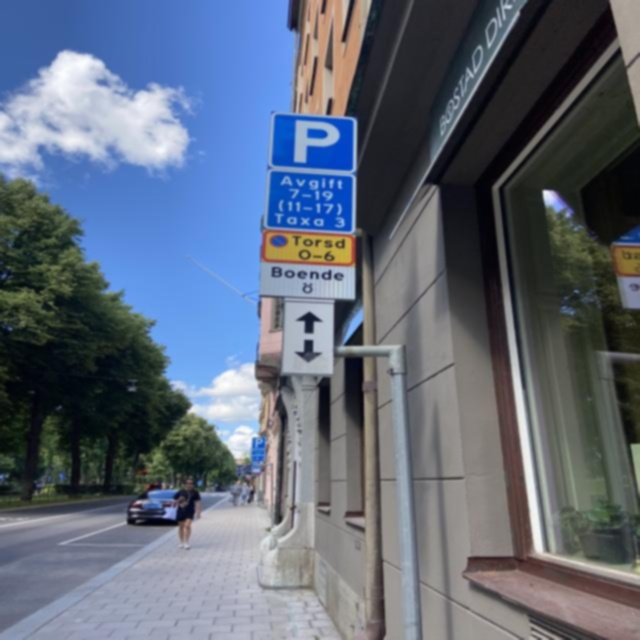P-skylt: (267, 108, 356, 176)
